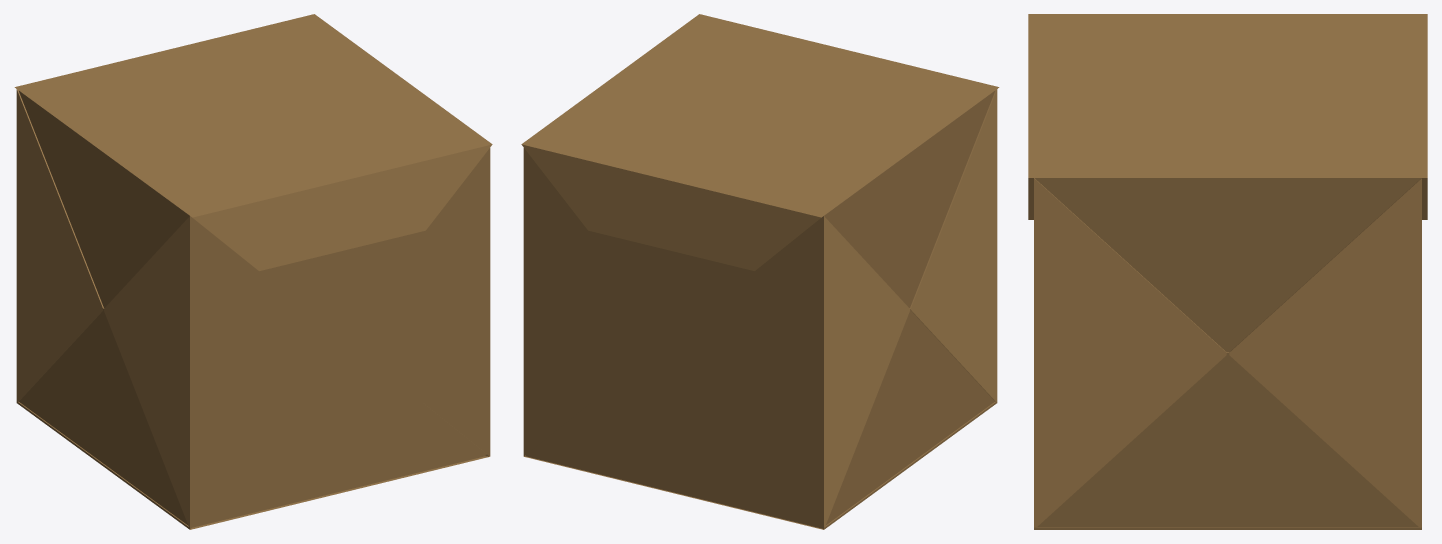
File: cardboard_box.fbx
3 views of the same model, side by side, from view 1: azimuth 30°, elevation 25°; view 2: azimuth 150°, elevation 25°; view 3: azimuth 270°, elevation 25° (orthographic). The views are drawn at different scales.
Visible parts, largest first — view 1: Cube, face, Cube.001, Cube.002; view 2: Cube, face, Cube.001, Cube.002; view 3: Cube, Cube.001, face.
Boxes of the visible parts, x1,y1,x2,y2 form: Cube: (14, 14, 491, 529); face: (18, 16, 488, 215); Cube.001: (16, 89, 189, 527); Cube.002: (193, 144, 492, 270); Cube: (522, 14, 999, 529); face: (524, 16, 995, 215); Cube.001: (824, 89, 997, 527); Cube.002: (521, 144, 820, 270); Cube: (1028, 14, 1427, 529); Cube.001: (1034, 178, 1421, 528); face: (1034, 14, 1421, 177).
Size of the model in its own units: 598 by 598 by 614.
